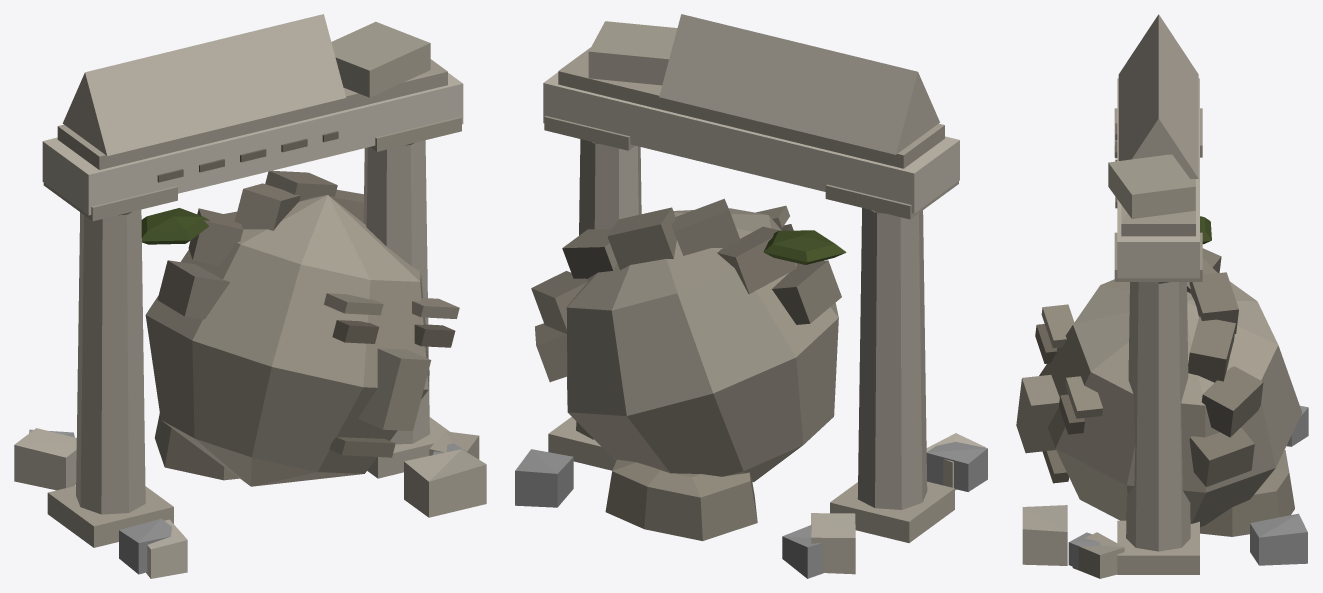
File: ruins.glb
3 renders of one model, left to right at view 1: azimuth 30°, elevation 25°; view 2: azimuth 150°, elevation 25°; view 3: azimuth 270°, elevation 25°, orthographic. The views are drawn at different scales.
Visible parts, largest first — view 1: ruins_temple_gate_a, ruins_colossus_head_a; view 2: ruins_temple_gate_a, ruins_colossus_head_a; view 3: ruins_colossus_head_a, ruins_temple_gate_a.
Boxes of the visible parts, <box> form: ruins_temple_gate_a: <box>14,14,486,578</box>; ruins_colossus_head_a: <box>29,170,466,574</box>; ruins_temple_gate_a: <box>543,14,985,574</box>; ruins_colossus_head_a: <box>515,198,987,578</box>; ruins_colossus_head_a: <box>1016,216,1308,568</box>; ruins_temple_gate_a: <box>1022,14,1202,578</box>.
Size of the model in its own units: 2.95 by 3.38 by 2.19.
